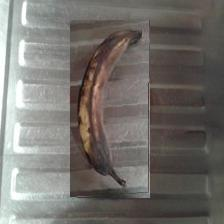Banana Rotten: (71, 21, 151, 199)
